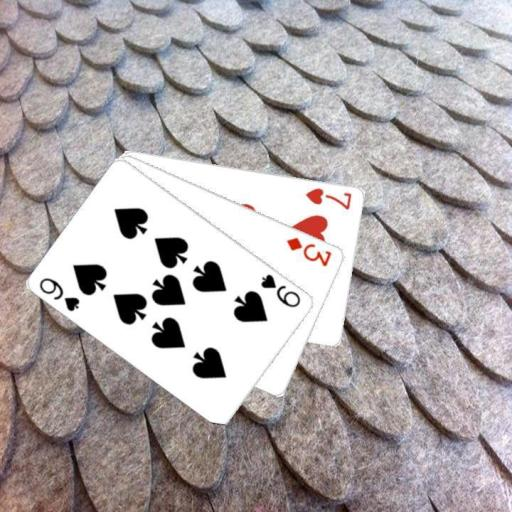card-corner: (257, 270, 303, 310), (36, 274, 82, 313), (283, 234, 334, 268), (302, 184, 354, 211)
